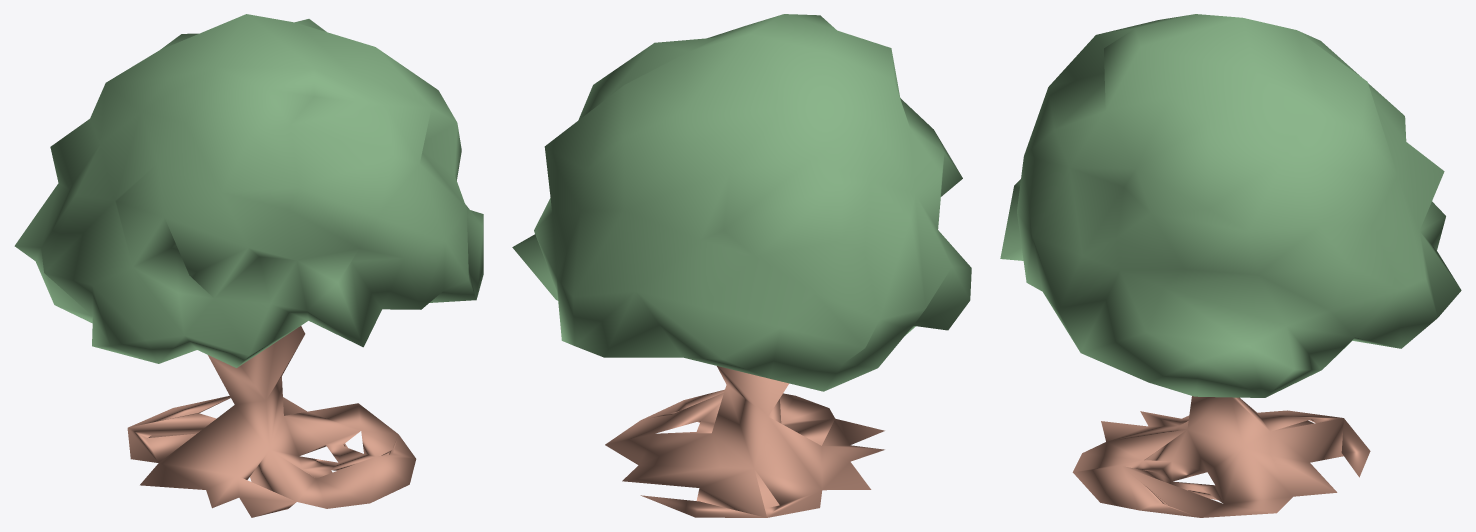
3 renders of one model, left to right at view 1: azimuth 30°, elevation 25°; view 2: azimuth 150°, elevation 25°; view 3: azimuth 270°, elevation 25°, orthographic.
Visible parts, largest first — view 1: 둥근 수관 나무; view 2: 둥근 수관 나무; view 3: 둥근 수관 나무.
Boxes of the visible parts, x1,y1,x2,y2 form: 둥근 수관 나무: [14, 14, 483, 517]; 둥근 수관 나무: [512, 14, 971, 517]; 둥근 수관 나무: [1000, 14, 1461, 517].
Size of the model in its own units: 1.16 by 1.22 by 1.14.
Materials: 1 (1 with a texture image).
